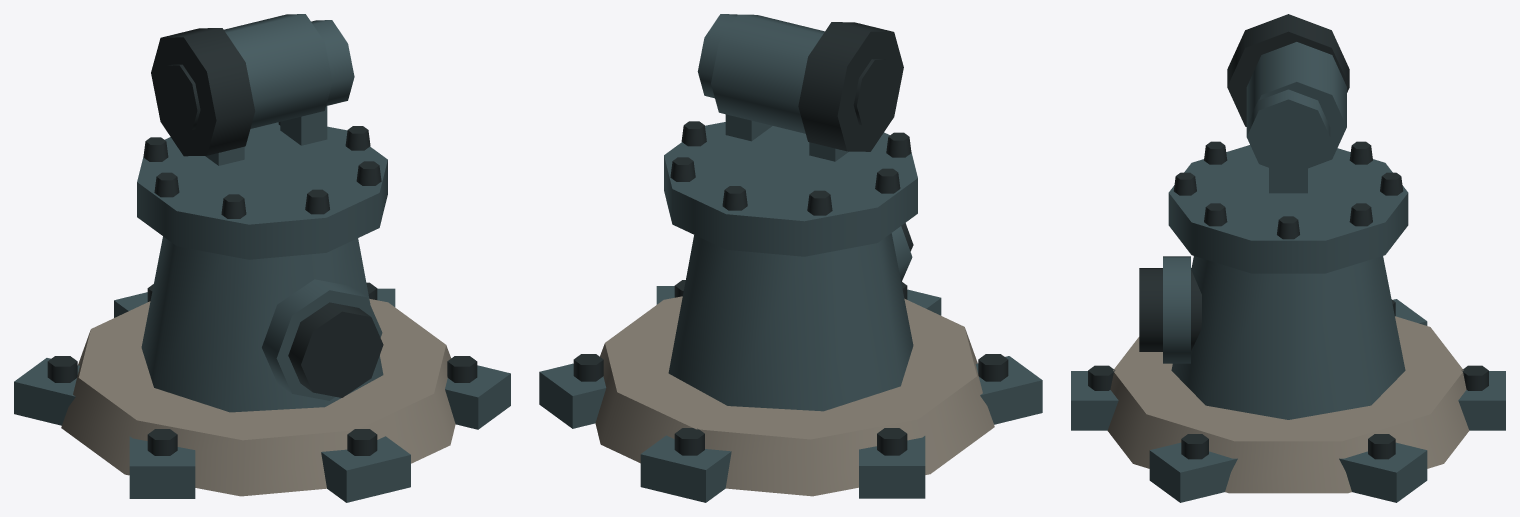
File: sprinkler.source.glb
3 views of the same model, side by side, from view 1: azimuth 30°, elevation 25°; view 2: azimuth 150°, elevation 25°; view 3: azimuth 270°, elevation 25° (orthographic). The views are drawn at different scales.
Parts seen in each view (by area): view 1: sprinkler-base-plinth-mesh, sprinkler-upper-flange-mesh, sprinkler-pedestal-body-mesh, sprinkler-nozzle-tip-mesh, sprinkler-nozzle-body-mesh, sprinkler-inlet-coupling-mesh, sprinkler-inlet-collar-mesh, sprinkler-base-foot-1-mesh, sprinkler-base-foot-6-mesh, sprinkler-base-foot-2-mesh, sprinkler-base-foot-5-mesh, sprinkler-rear-head-cap-mesh (+10 smaller); view 2: sprinkler-base-plinth-mesh, sprinkler-pedestal-body-mesh, sprinkler-upper-flange-mesh, sprinkler-nozzle-body-mesh, sprinkler-nozzle-tip-mesh, sprinkler-base-foot-4-mesh, sprinkler-base-foot-5-mesh, sprinkler-base-foot-3-mesh, sprinkler-base-foot-6-mesh, sprinkler-nozzle-opening-mesh, sprinkler-rear-head-cap-mesh, sprinkler-yoke-arm-right-mesh (+10 smaller); view 3: sprinkler-pedestal-body-mesh, sprinkler-base-plinth-mesh, sprinkler-upper-flange-mesh, sprinkler-nozzle-body-mesh, sprinkler-rear-head-cap-mesh, sprinkler-nozzle-tip-mesh, sprinkler-base-foot-2-mesh, sprinkler-base-foot-3-mesh, sprinkler-inlet-collar-mesh, sprinkler-inlet-coupling-mesh, sprinkler-base-foot-1-mesh, sprinkler-base-foot-4-mesh (+11 smaller).
Boxes of the visible parts, x1,y1,x2,y2 form: sprinkler-base-plinth-mesh: (61, 299, 455, 496); sprinkler-upper-flange-mesh: (137, 122, 387, 259); sprinkler-pedestal-body-mesh: (141, 236, 383, 412); sprinkler-nozzle-tip-mesh: (151, 28, 255, 156); sprinkler-nozzle-body-mesh: (224, 14, 332, 128); sprinkler-inlet-coupling-mesh: (288, 302, 383, 397); sprinkler-inlet-collar-mesh: (262, 279, 382, 400); sprinkler-base-foot-1-mesh: (321, 436, 410, 502); sprinkler-base-foot-6-mesh: (129, 436, 195, 498); sprinkler-base-foot-2-mesh: (445, 365, 510, 429); sprinkler-base-foot-5-mesh: (14, 358, 79, 425); sprinkler-rear-head-cap-mesh: (311, 20, 354, 105); sprinkler-base-plinth-mesh: (595, 296, 994, 496); sprinkler-pedestal-body-mesh: (668, 233, 913, 411); sprinkler-upper-flange-mesh: (664, 122, 917, 256); sprinkler-nozzle-body-mesh: (711, 14, 824, 133); sprinkler-nozzle-tip-mesh: (798, 22, 903, 151); sprinkler-base-foot-4-mesh: (640, 435, 731, 502); sprinkler-base-foot-5-mesh: (859, 436, 925, 498); sprinkler-base-foot-3-mesh: (539, 363, 606, 428); sprinkler-base-foot-6-mesh: (975, 356, 1042, 424); sprinkler-nozzle-opening-mesh: (853, 59, 892, 125); sprinkler-rear-head-cap-mesh: (697, 14, 737, 98); sprinkler-yoke-arm-right-mesh: (725, 114, 772, 141); sprinkler-pedestal-body-mesh: (1171, 256, 1405, 419); sprinkler-base-plinth-mesh: (1107, 316, 1469, 493); sprinkler-upper-flange-mesh: (1168, 145, 1408, 273); sprinkler-nozzle-body-mesh: (1246, 42, 1346, 168); sprinkler-rear-head-cap-mesh: (1246, 89, 1330, 174); sprinkler-nozzle-tip-mesh: (1227, 14, 1349, 126); sprinkler-base-foot-2-mesh: (1149, 442, 1237, 502); sprinkler-base-foot-3-mesh: (1339, 442, 1427, 502); sprinkler-inlet-collar-mesh: (1163, 256, 1190, 363); sprinkler-inlet-coupling-mesh: (1139, 268, 1201, 351); sprinkler-base-foot-1-mesh: (1071, 371, 1118, 430); sprinkler-base-foot-4-mesh: (1458, 371, 1505, 430).
Size of the model in its own units: 1.48 by 1.45 by 1.56.
